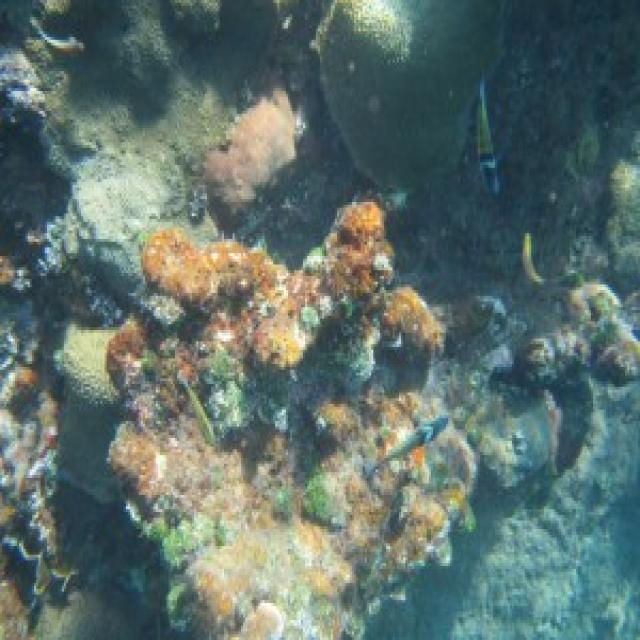Coral: (107, 199, 477, 640), (24, 0, 279, 328), (309, 0, 502, 190), (202, 86, 306, 214), (51, 322, 122, 507)
